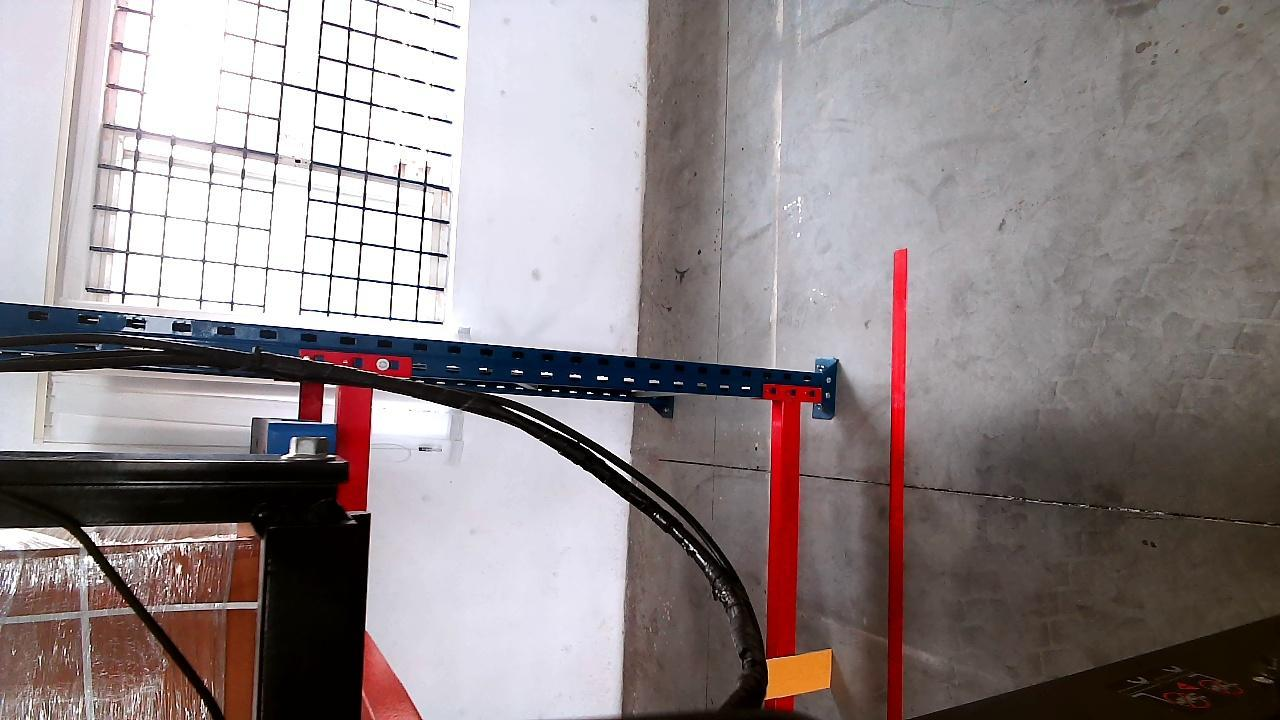red_line: (885, 246, 909, 710)
